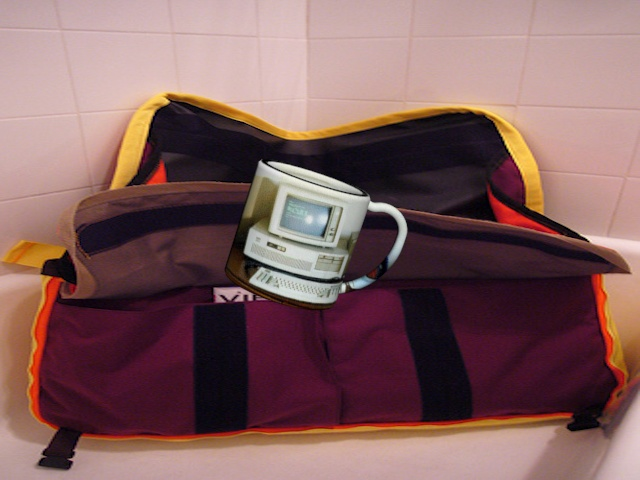mug: (224, 153, 416, 321)
